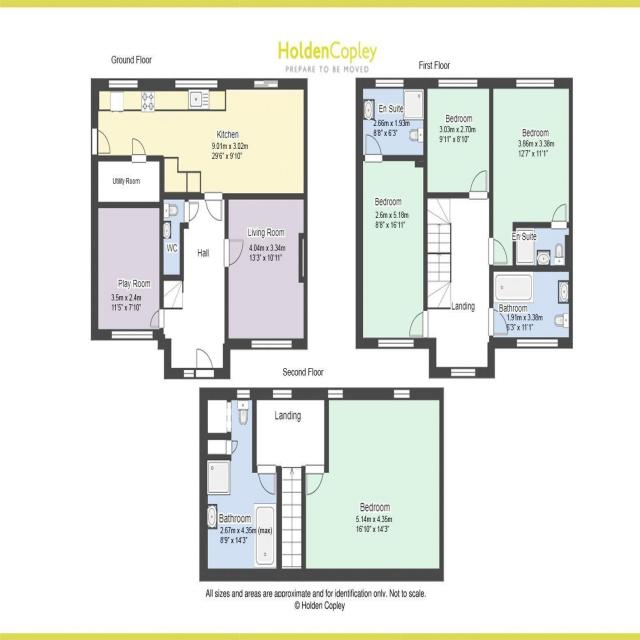DOOR: (222, 238, 246, 268), (487, 307, 510, 338), (487, 236, 510, 267), (195, 345, 214, 381), (257, 463, 277, 497), (363, 132, 384, 164), (204, 190, 223, 224), (469, 167, 488, 201), (306, 464, 325, 497), (90, 128, 112, 156), (408, 310, 430, 338), (551, 202, 568, 231), (131, 136, 148, 164), (182, 201, 201, 224), (149, 308, 165, 330)
ROOM: (300, 386, 444, 583), (89, 76, 308, 201), (488, 76, 574, 273), (355, 132, 429, 350), (222, 192, 309, 351), (90, 201, 167, 342), (422, 75, 494, 199), (89, 135, 165, 207)
WINDOW: (174, 77, 219, 93), (110, 328, 154, 343), (250, 337, 293, 352), (516, 335, 559, 350), (515, 76, 555, 91), (438, 76, 479, 90), (107, 76, 139, 93), (377, 337, 415, 351), (450, 365, 476, 380), (392, 386, 411, 403), (272, 386, 293, 401), (327, 386, 344, 401), (236, 386, 251, 401), (183, 366, 195, 380)
